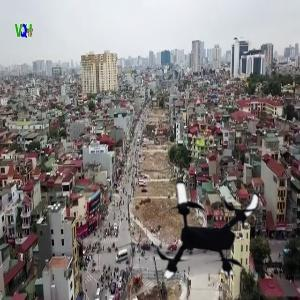drone: (143, 164, 270, 291)
